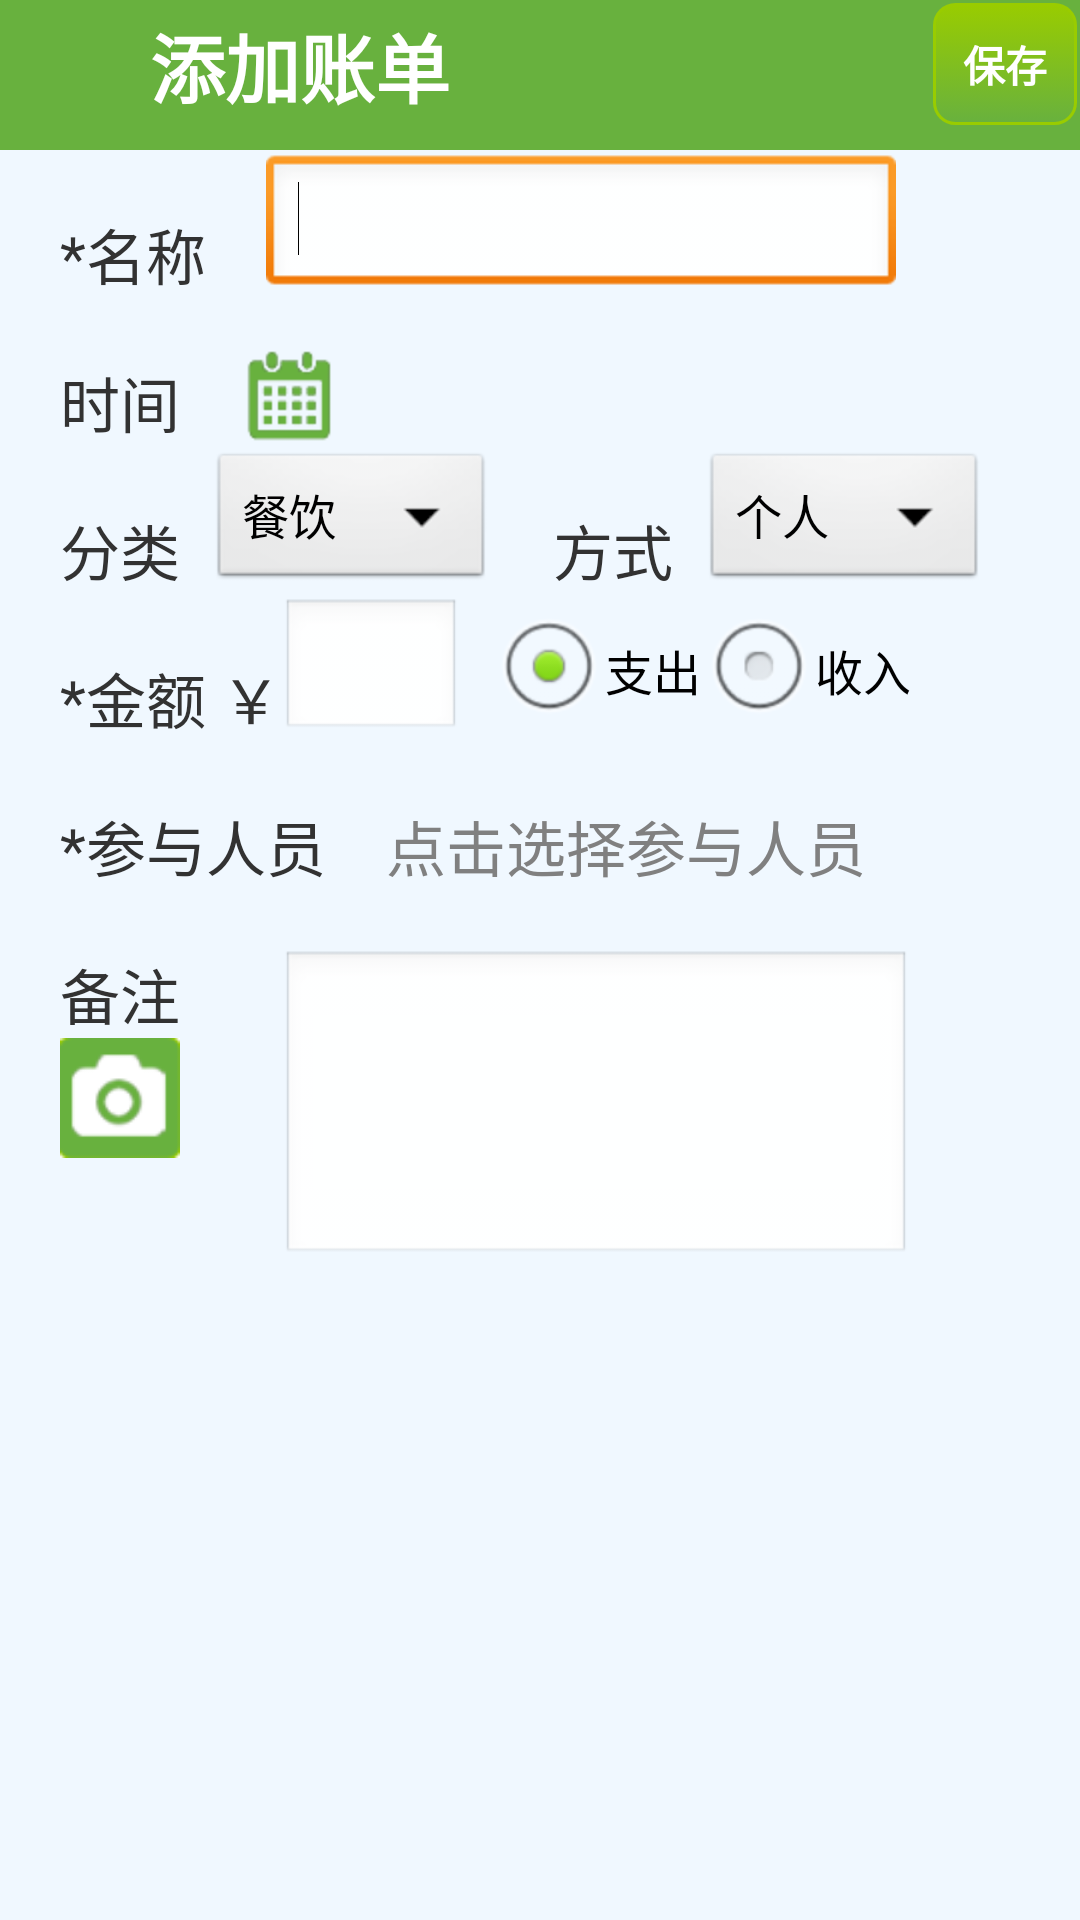

Icon bounding boxes for this 1080x1920 phone screenshot, format [x1=x1, y1=y1, x2=x2, y2=y2]:
addactivity buttonselector camera: [x1=60, y1=1038, x2=180, y2=1158]
